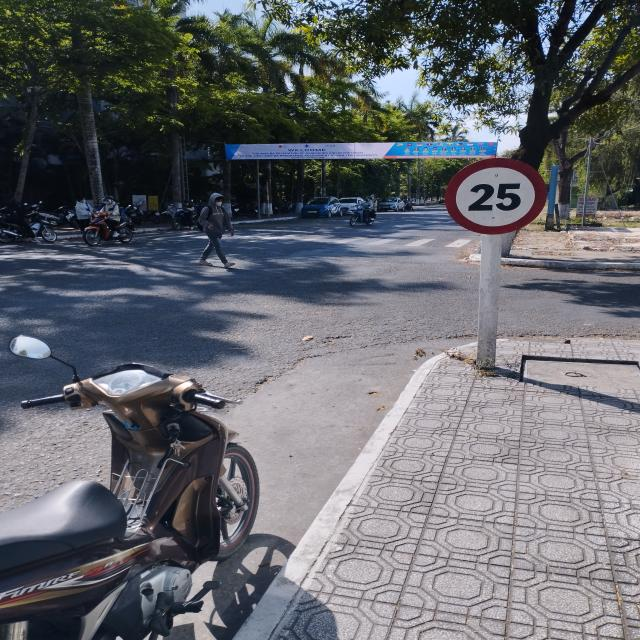Tre_Em: (446, 157, 548, 235)
